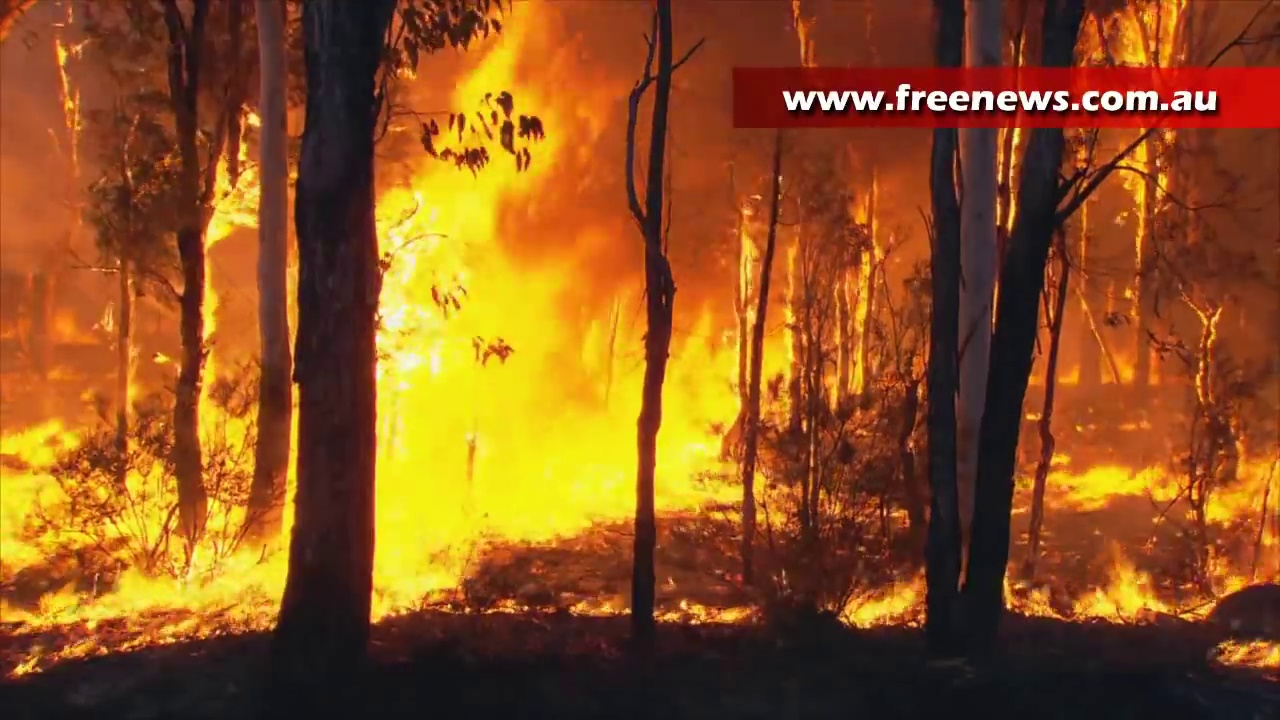fire: (364, 174, 761, 615), (1, 415, 292, 660), (1053, 461, 1177, 499), (1113, 4, 1183, 61), (1086, 567, 1155, 619), (213, 143, 252, 229), (1129, 123, 1166, 201), (1232, 450, 1280, 510), (855, 587, 931, 617), (1231, 640, 1280, 670)
